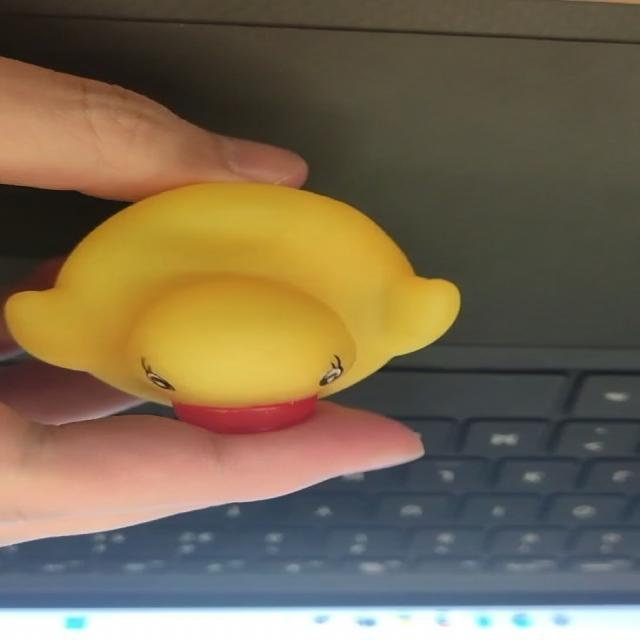rubber-duck: (5, 181, 458, 430)
